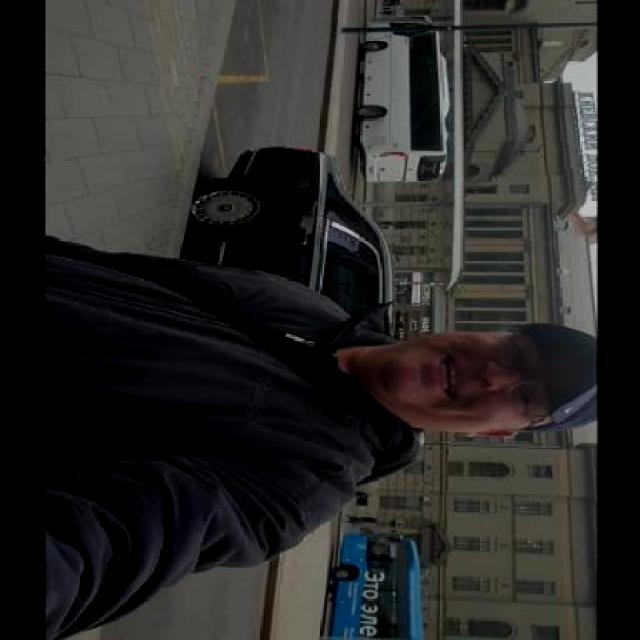bus: (356, 24, 452, 190), (323, 536, 427, 640)
